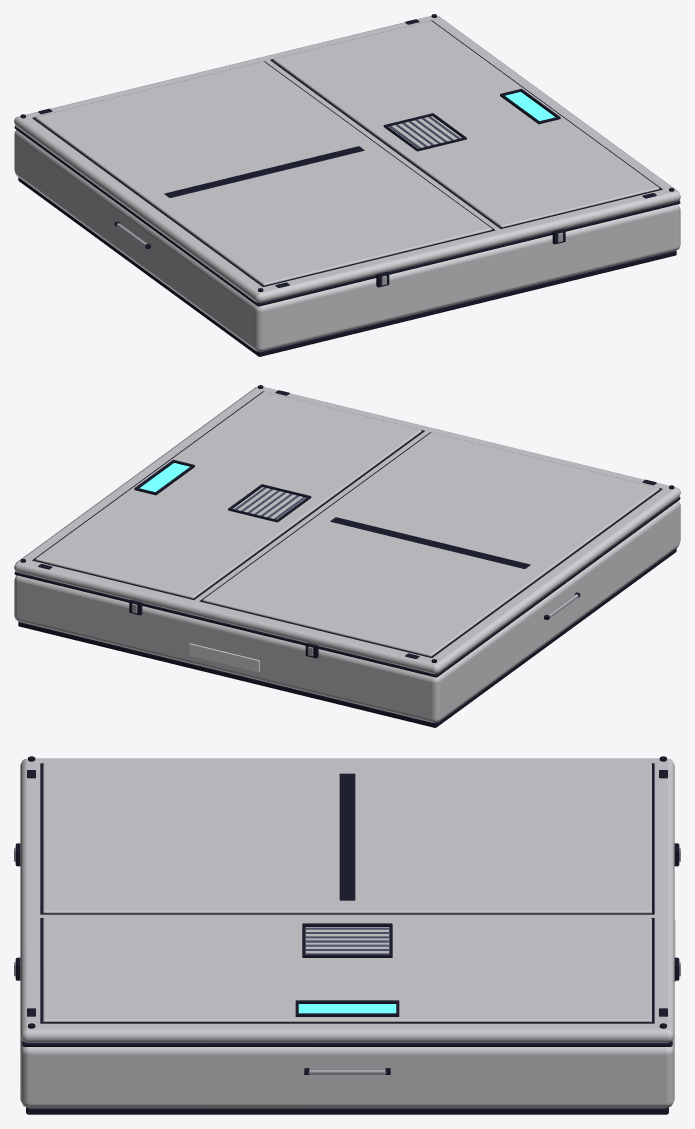
The model's file is roof.box.w3.d3.v0.glb.
The picture shows the model from 3 angles, top to bottom: view 1: azimuth 30°, elevation 25°; view 2: azimuth 150°, elevation 25°; view 3: azimuth 270°, elevation 25°; orthographic projection. The views are drawn at different scales.
Parts seen in each view (by area): view 1: roof.box.w3.d3.v0; view 2: roof.box.w3.d3.v0; view 3: roof.box.w3.d3.v0.
Boxes of the visible parts, box(x1,y1,x2,y2) form: roof.box.w3.d3.v0: box(14, 14, 680, 356); roof.box.w3.d3.v0: box(14, 385, 680, 727); roof.box.w3.d3.v0: box(14, 756, 680, 1114).
Bounding box in the file's own units: 2.95 × 0.446 × 2.96.
